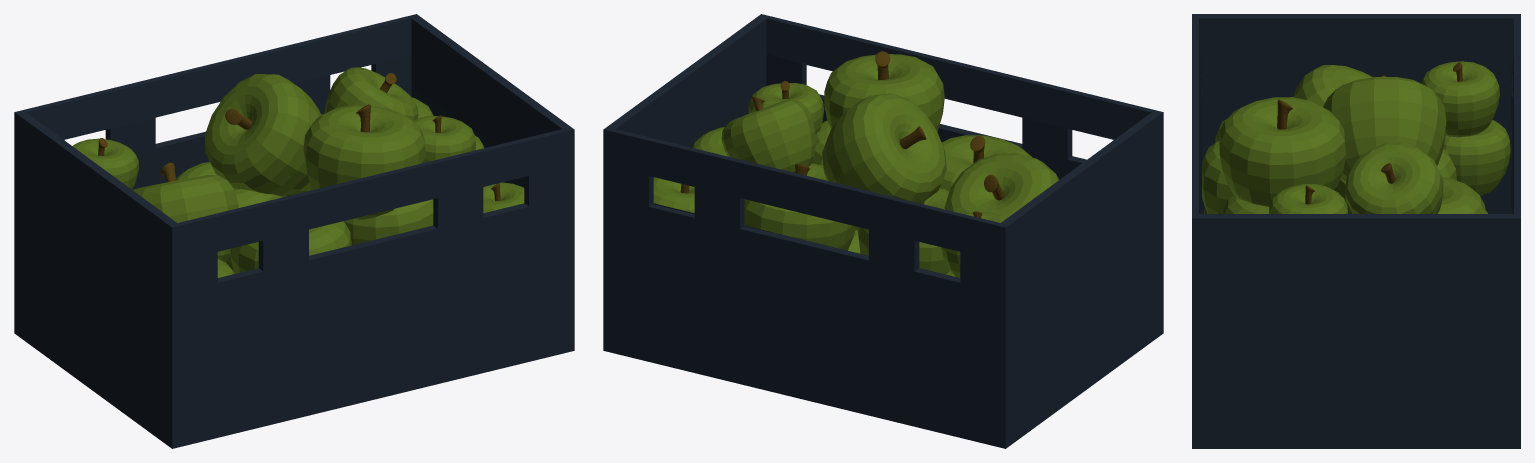
The model's file is box of apples.fbx.
3 renders of one model, left to right at view 1: azimuth 30°, elevation 25°; view 2: azimuth 150°, elevation 25°; view 3: azimuth 270°, elevation 25°, orthographic. The views are drawn at different scales.
Visible parts, largest first — view 1: Cube, Cube.022, Cube.025, Cube.024, Cube.021, Cube.013, Cube.026, Cube.012, Cube.023, Cube.014, Cube.017; view 2: Cube, Cube.022, Cube.025, Cube.021, Cube.024, Cube.016, Cube.012, Cube.026, Cube.017, Cube.015, Cube.023, Cube.019; view 3: Cube, Cube.025, Cube.022, Cube.021, Cube.023, Cube.020, Cube.026, Cube.024, Cube.012, Cube.016, Cube.013, Cube.017.
Boxes of the visible parts, x1=… form: Cube: x1=14, y1=14, x2=574, y2=448; Cube.022: x1=205, y1=74, x2=321, y2=196; Cube.025: x1=303, y1=104, x2=425, y2=219; Cube.024: x1=133, y1=163, x2=238, y2=262; Cube.021: x1=324, y1=67, x2=418, y2=120; Cube.013: x1=343, y1=199, x2=433, y2=245; Cube.026: x1=413, y1=115, x2=475, y2=162; Cube.012: x1=230, y1=221, x2=351, y2=273; Cube.023: x1=72, y1=138, x2=138, y2=189; Cube.014: x1=483, y1=182, x2=524, y2=213; Cube.017: x1=176, y1=162, x2=285, y2=271; Cube: x1=603, y1=14, x2=1163, y2=448; Cube.022: x1=822, y1=93, x2=946, y2=203; Cube.025: x1=824, y1=51, x2=944, y2=131; Cube.021: x1=721, y1=97, x2=815, y2=172; Cube.024: x1=944, y1=153, x2=1058, y2=217; Cube.016: x1=744, y1=163, x2=856, y2=250; Cube.012: x1=940, y1=135, x2=1031, y2=191; Cube.026: x1=748, y1=81, x2=824, y2=134; Cube.017: x1=857, y1=188, x2=949, y2=273; Cube.015: x1=653, y1=177, x2=694, y2=213; Cube.023: x1=941, y1=211, x2=1006, y2=277; Cube.019: x1=692, y1=127, x2=727, y2=156; Cube: x1=1192, y1=14, x2=1520, y2=448; Cube.025: x1=1219, y1=97, x2=1345, y2=206; Cube.022: x1=1323, y1=75, x2=1446, y2=184; Cube.021: x1=1345, y1=142, x2=1443, y2=213; Cube.023: x1=1421, y1=61, x2=1499, y2=137; Cube.020: x1=1443, y1=120, x2=1510, y2=195; Cube.026: x1=1268, y1=184, x2=1347, y2=213; Cube.024: x1=1293, y1=65, x2=1374, y2=106; Cube.012: x1=1202, y1=141, x2=1233, y2=213; Cube.016: x1=1438, y1=177, x2=1486, y2=213; Cube.013: x1=1223, y1=195, x2=1268, y2=213; Cube.017: x1=1335, y1=149, x2=1456, y2=213.
Size of the model in its own units: 229 by 139 by 155.
